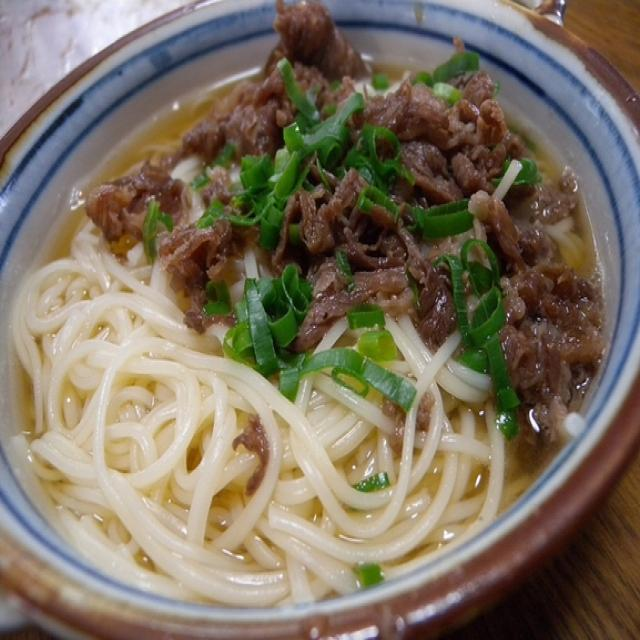面条主食: (6, 18, 626, 597)
